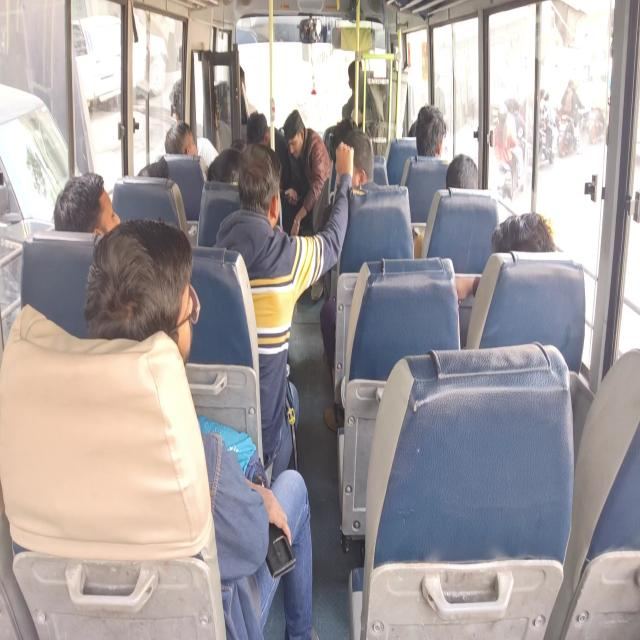person: (111, 246, 198, 377), (496, 221, 560, 278), (244, 166, 287, 243), (52, 177, 102, 236), (330, 115, 364, 182), (332, 146, 372, 198), (168, 119, 205, 170), (224, 56, 256, 111), (415, 110, 446, 162), (345, 53, 372, 112), (168, 78, 198, 131), (210, 150, 242, 194), (142, 155, 178, 192), (453, 162, 482, 205), (249, 120, 281, 154), (286, 121, 308, 165)
